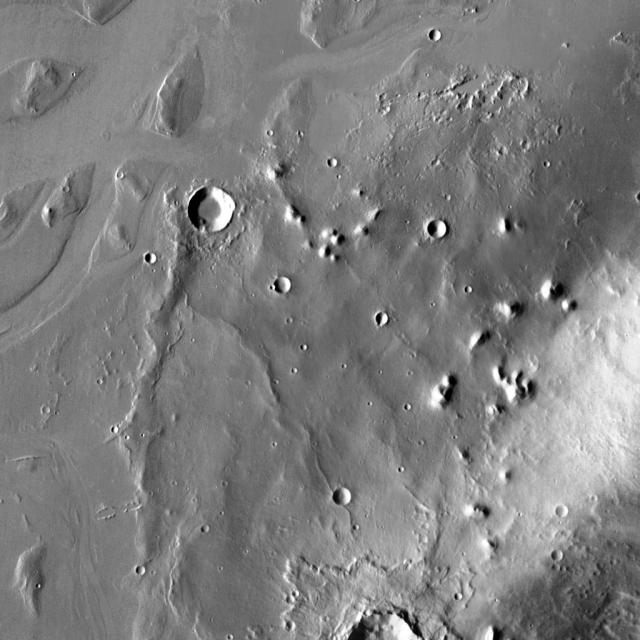crater: (184, 190, 230, 234), (429, 222, 447, 240), (334, 491, 350, 507), (270, 282, 286, 297), (100, 508, 114, 520), (146, 255, 158, 267), (376, 314, 388, 326), (553, 550, 565, 562), (558, 507, 570, 519), (429, 32, 442, 42), (328, 159, 338, 168), (136, 566, 146, 575), (288, 624, 296, 633), (202, 528, 210, 536), (448, 588, 456, 595), (104, 419, 112, 426), (36, 404, 43, 411), (110, 166, 117, 173), (492, 142, 499, 149), (538, 154, 544, 162), (586, 488, 592, 496), (56, 182, 63, 188), (587, 564, 594, 570), (294, 338, 300, 344), (280, 310, 286, 316), (400, 401, 406, 406)
